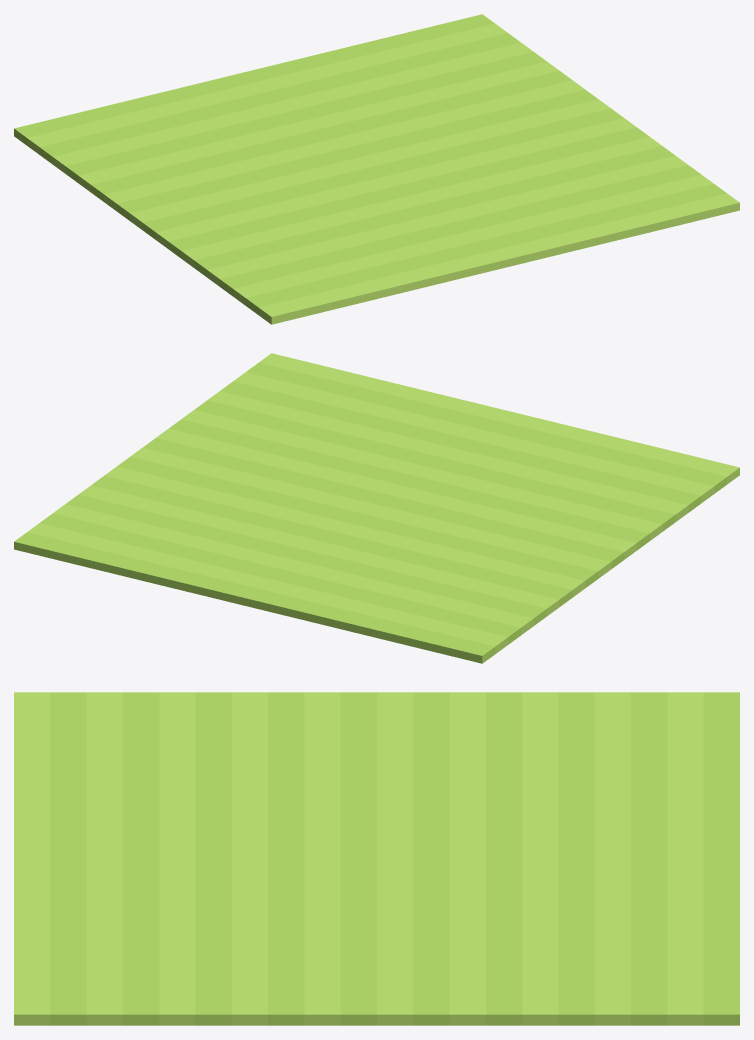
Rendered from Grass.obj.
The picture shows the model from 3 angles, top to bottom: view 1: azimuth 30°, elevation 25°; view 2: azimuth 150°, elevation 25°; view 3: azimuth 270°, elevation 25°; orthographic projection. The views are drawn at different scales.
Parts seen in each view (by area): view 1: Grass; view 2: Grass; view 3: Grass.
Boxes of the visible parts, left/top/right/bottom form: Grass: left=14, top=14, right=739, bottom=324; Grass: left=14, top=353, right=739, bottom=663; Grass: left=14, top=692, right=739, bottom=1025.
Bounding box in the file's own units: 126 × 2 × 120.
